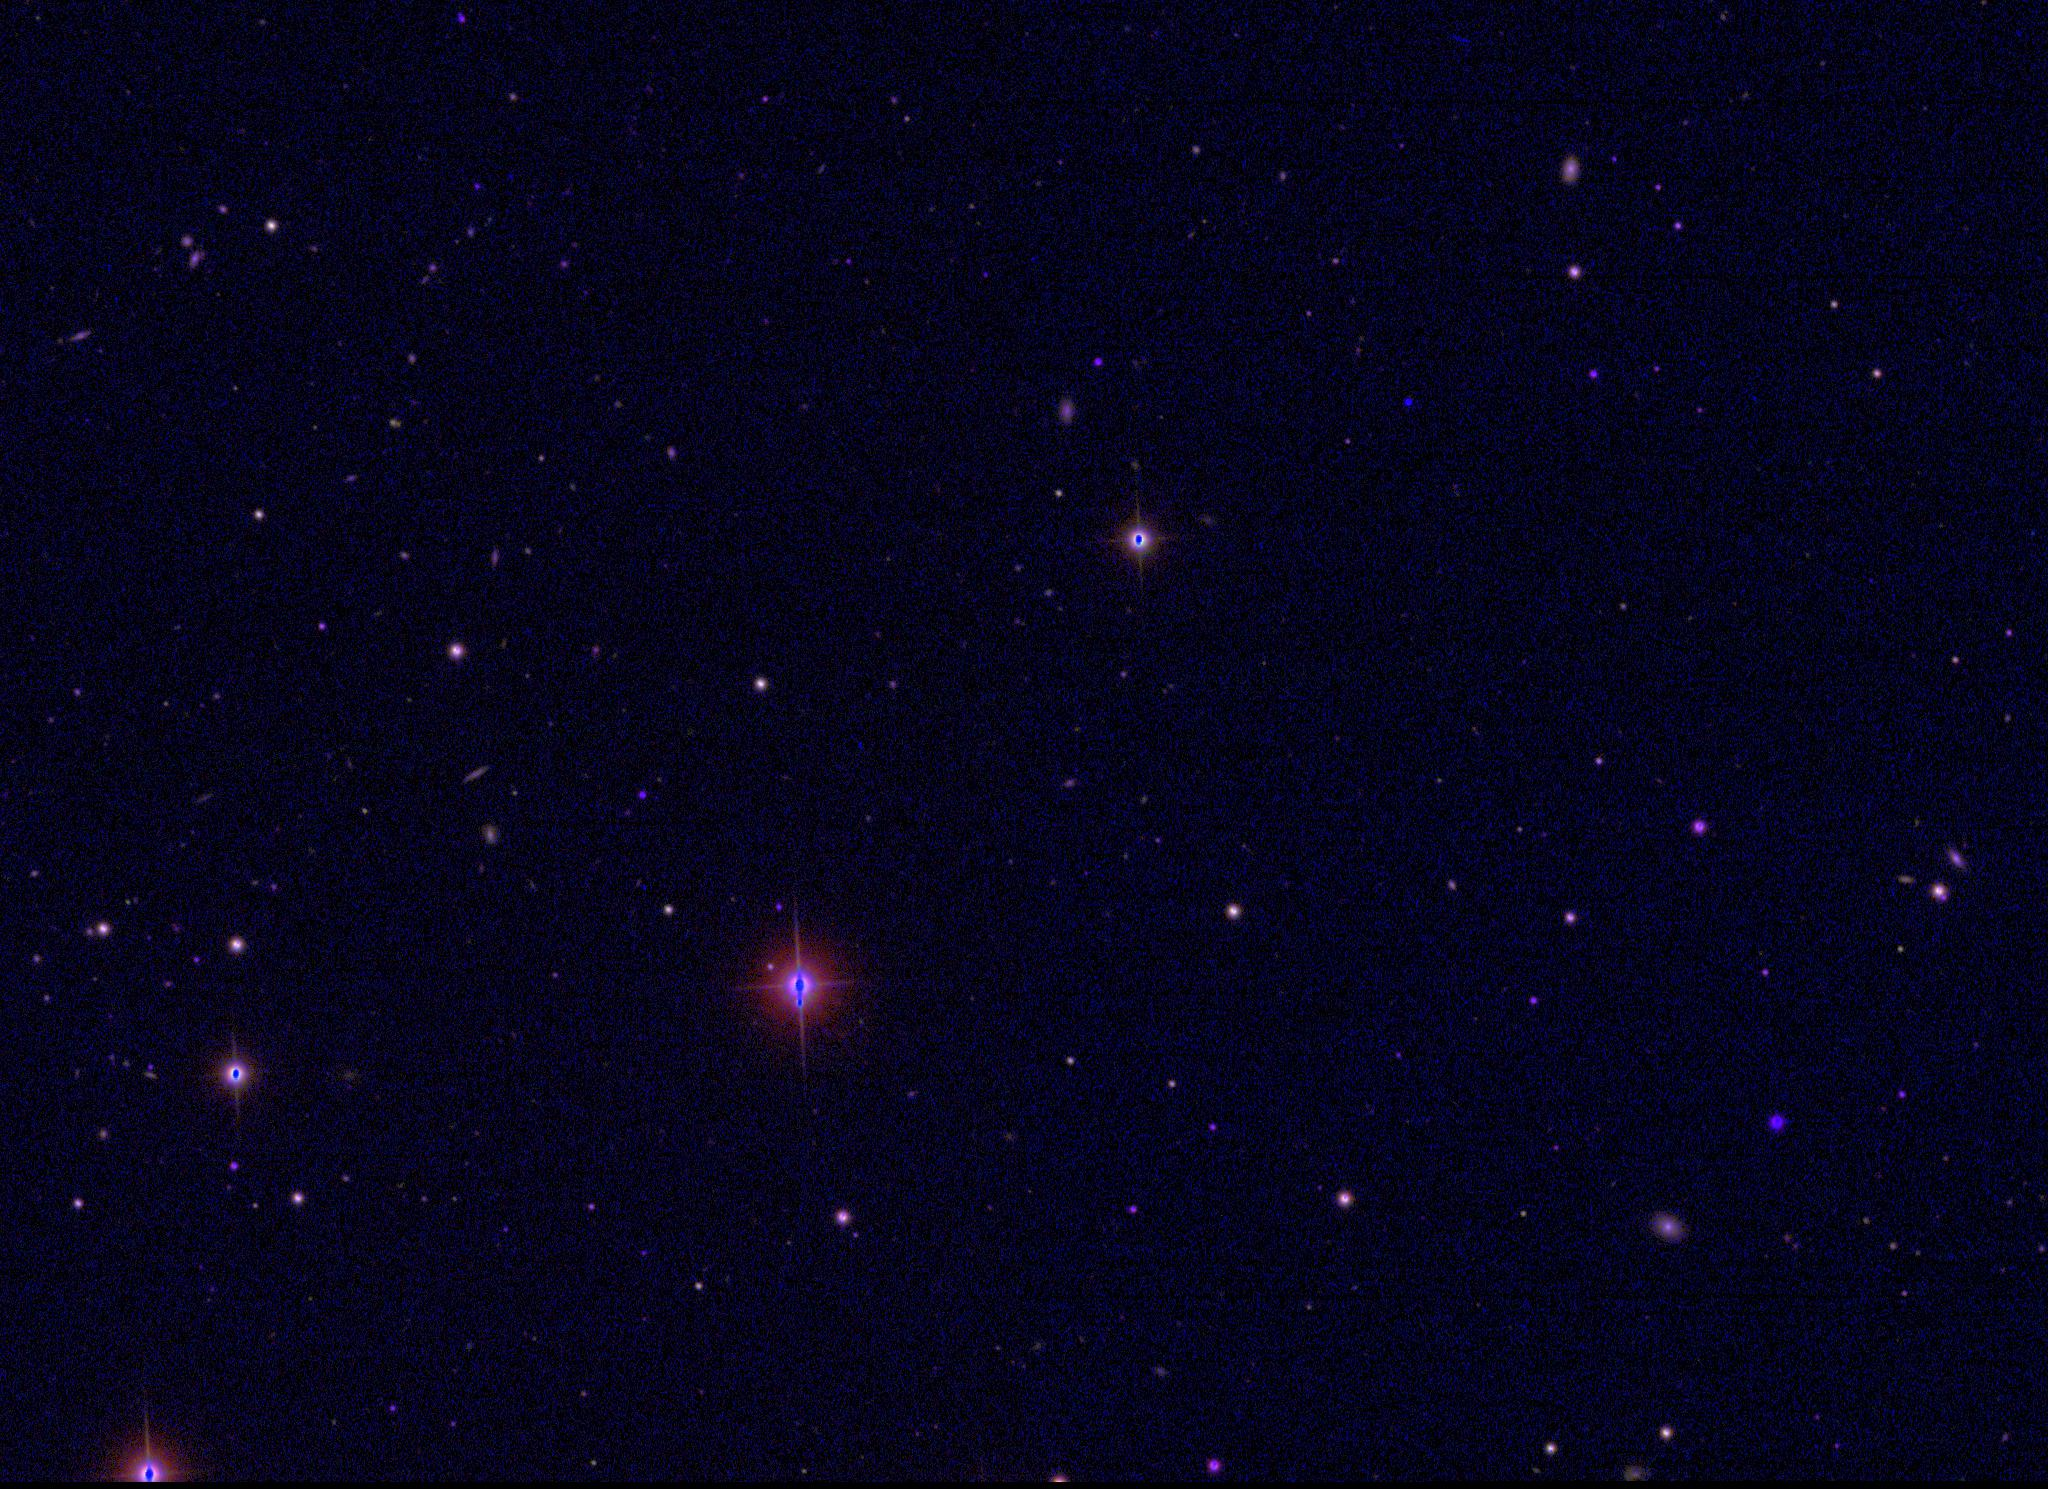L: (1402, 395, 1417, 409)
